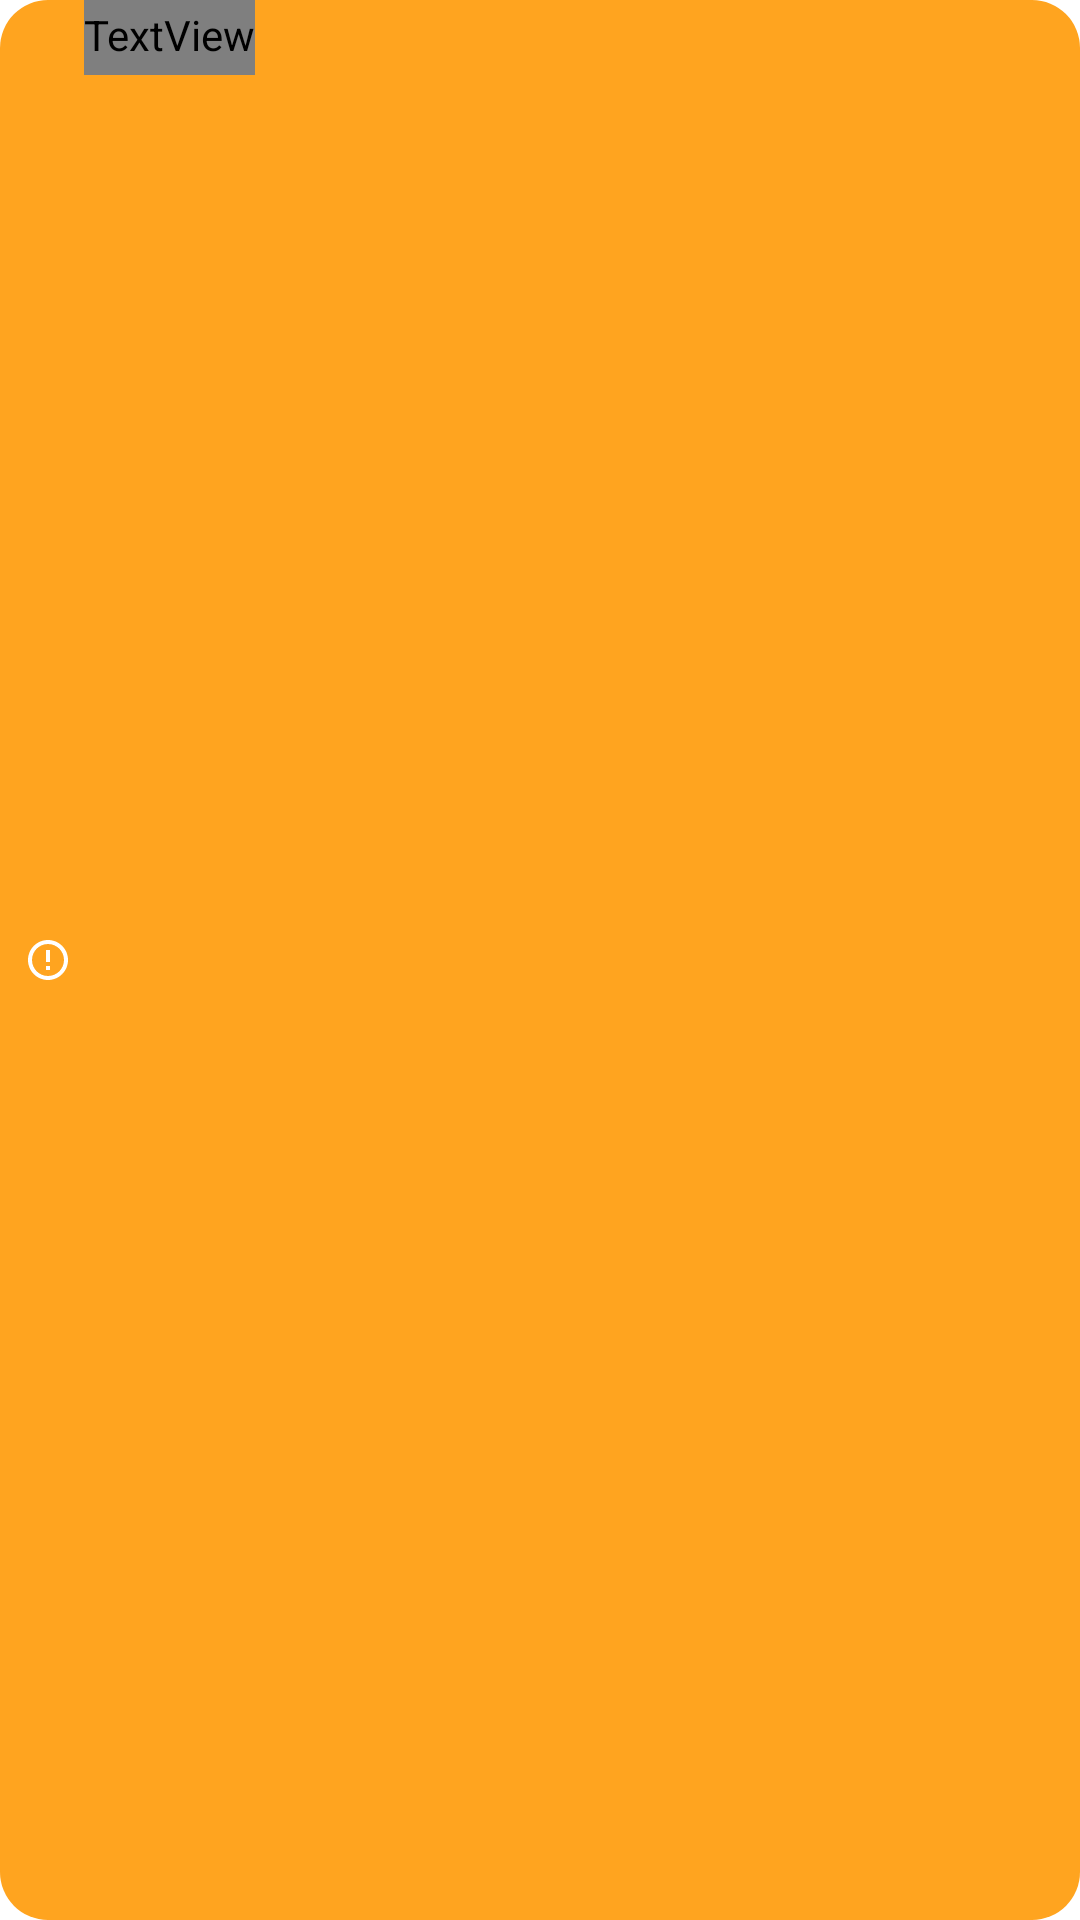

Icons on this 1080×1920 Android screen, each with the point to tap as (x=x, y=y):
error: (x=48, y=960)
